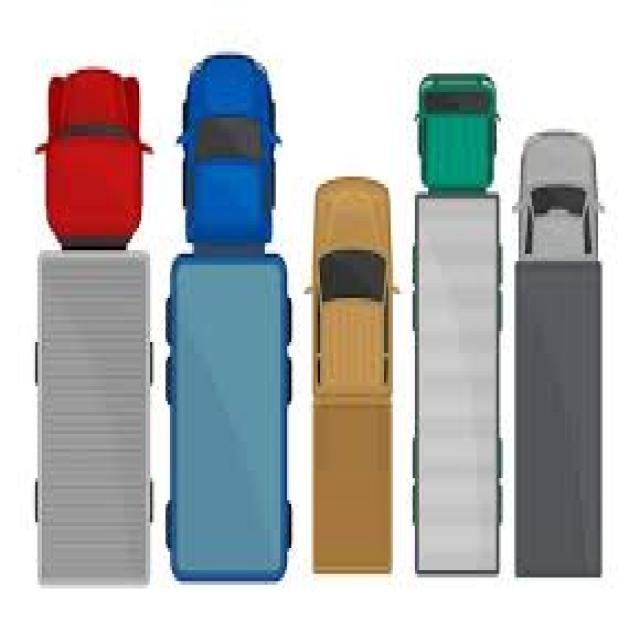truck: (312, 175, 388, 572)
